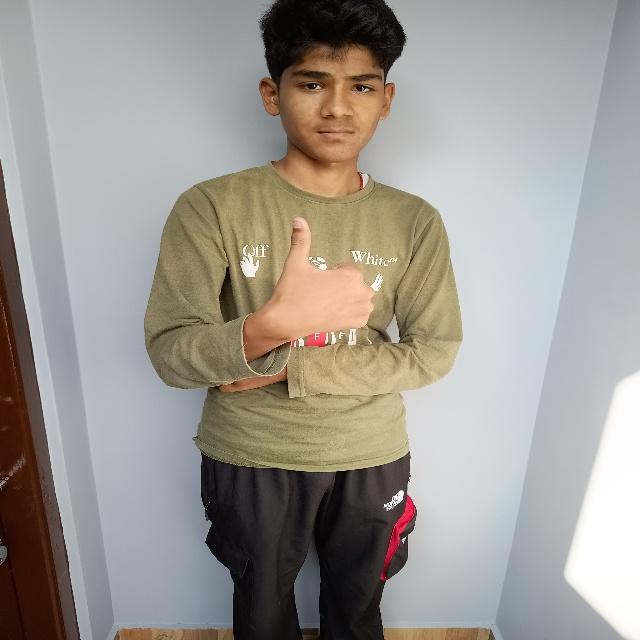Thumbs Up: (249, 218, 399, 361)
